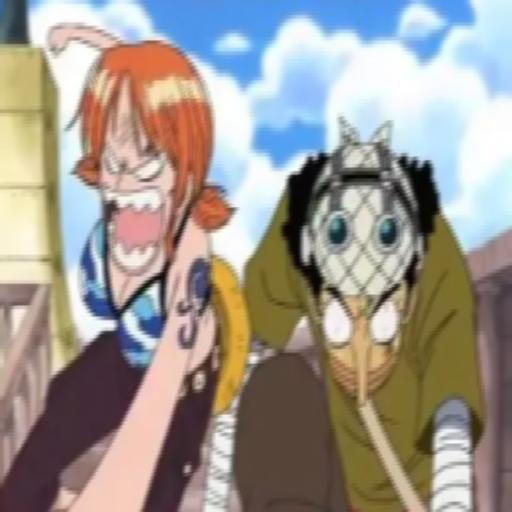Nami: (2, 8, 250, 512)
Usopp: (205, 107, 512, 512)
